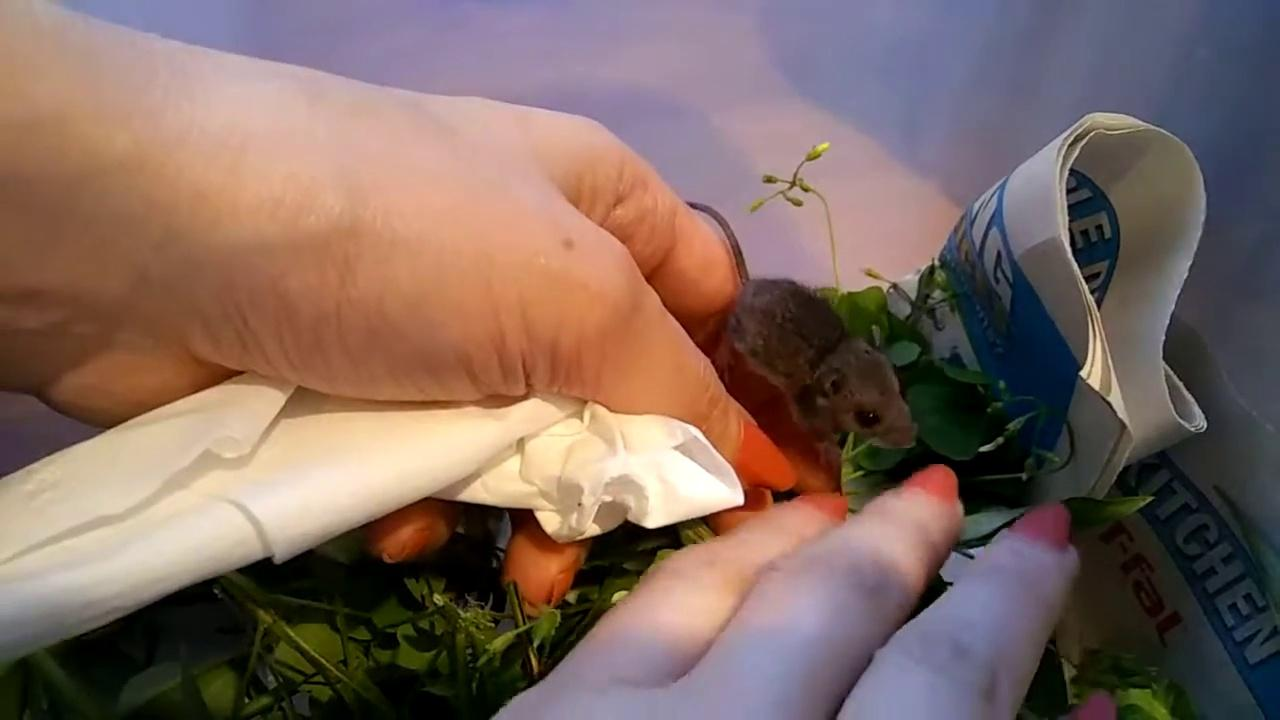rat: (682, 200, 918, 472)
